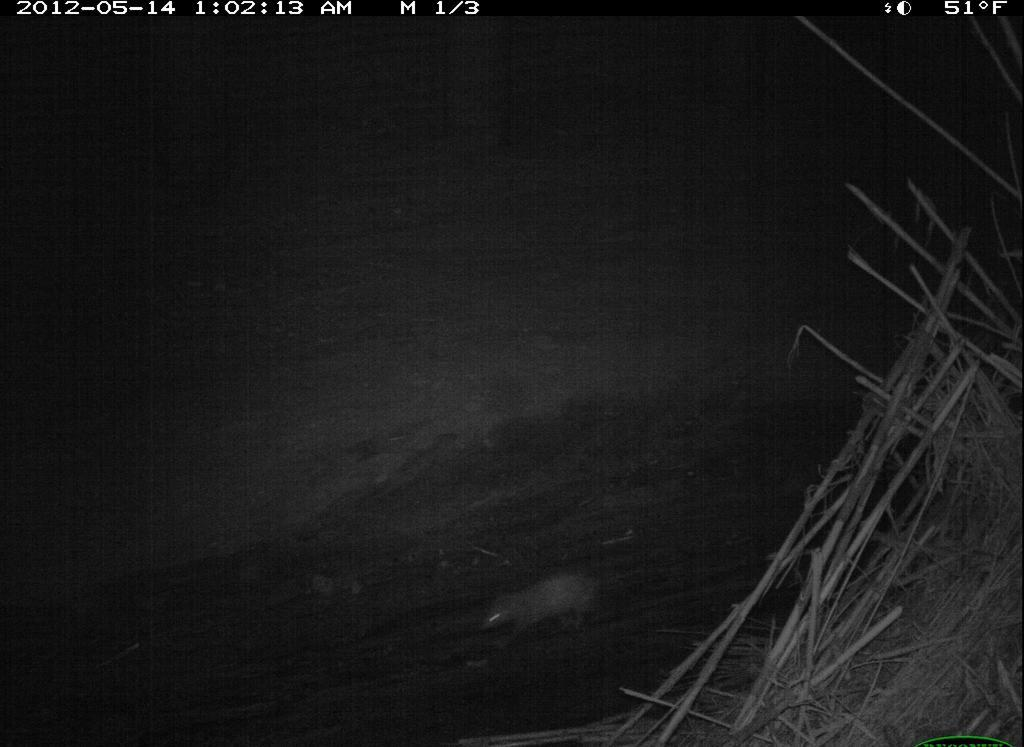opossum: (476, 560, 657, 640)
